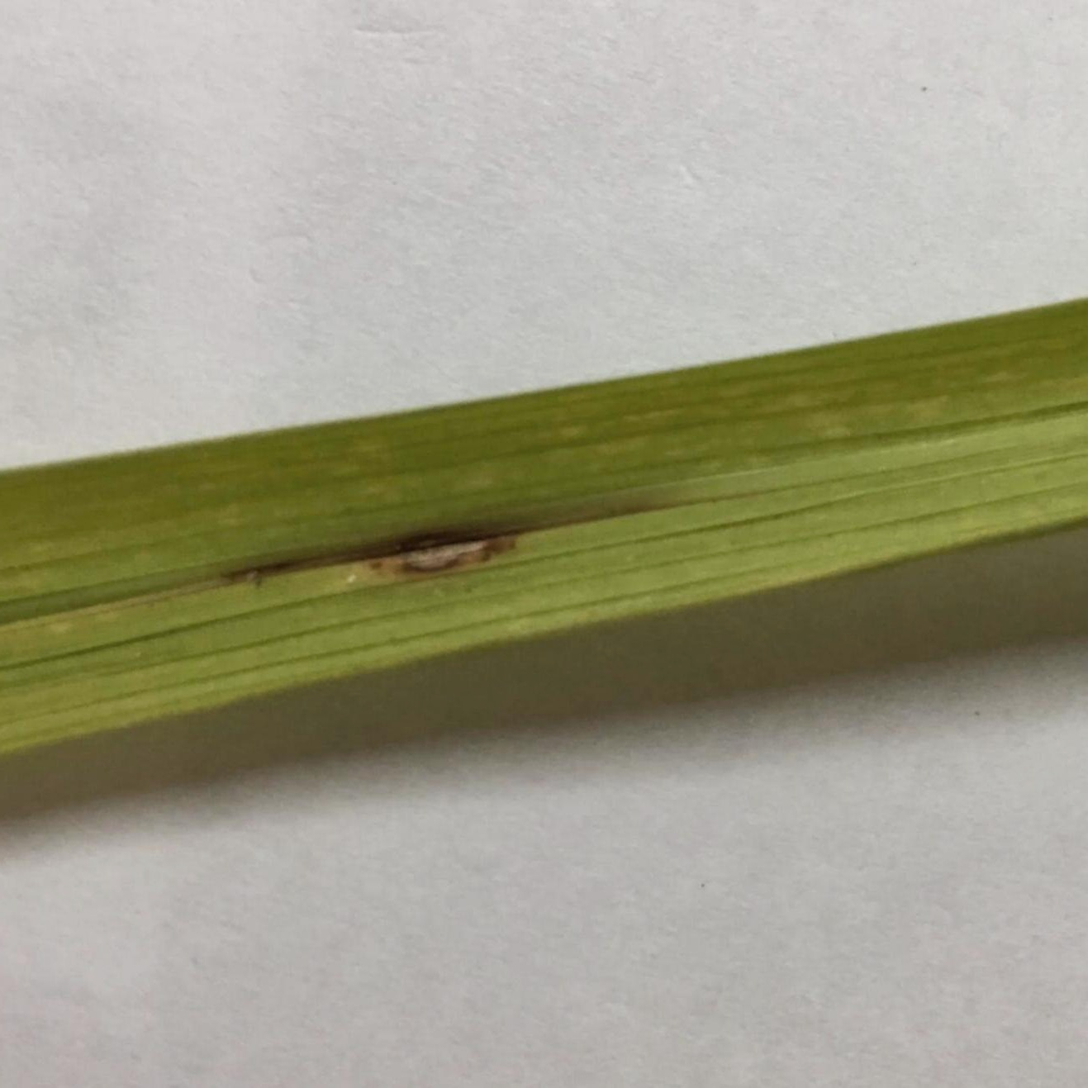Brown_Spot: (301, 412, 579, 625)
